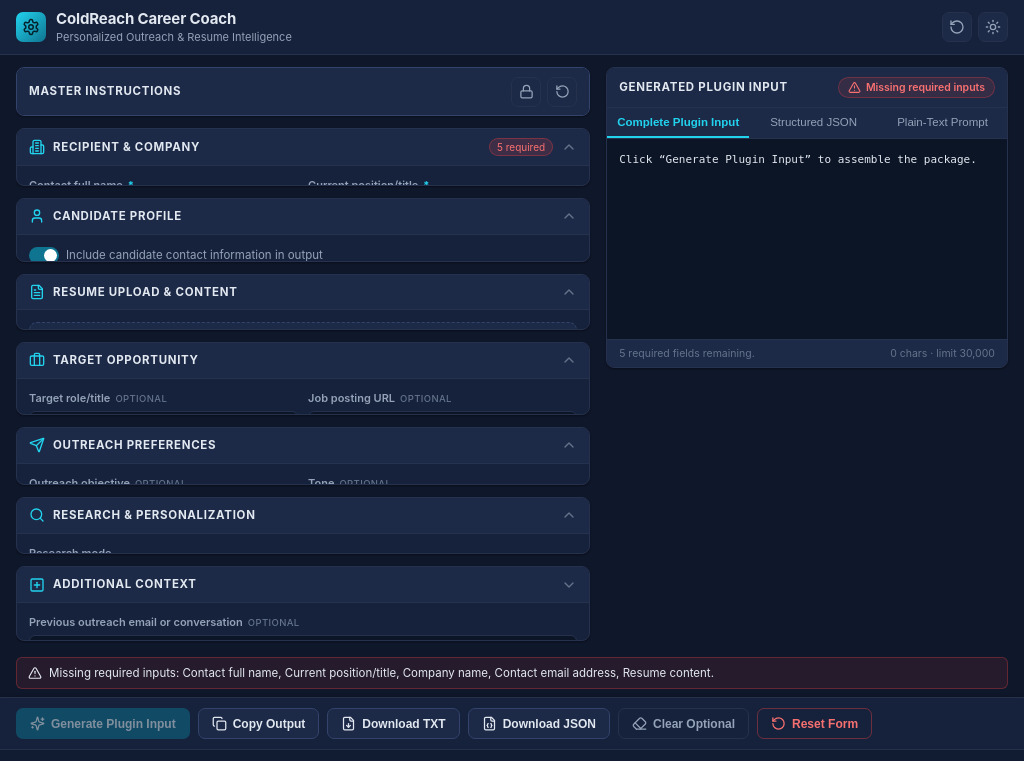
Test: Clipboard and downloads › shows an error toast when nothing has been generated yet
This screenshot has width=1024, height=761.
Click the button "Copy Output": (259, 724) [198,708,319,739]
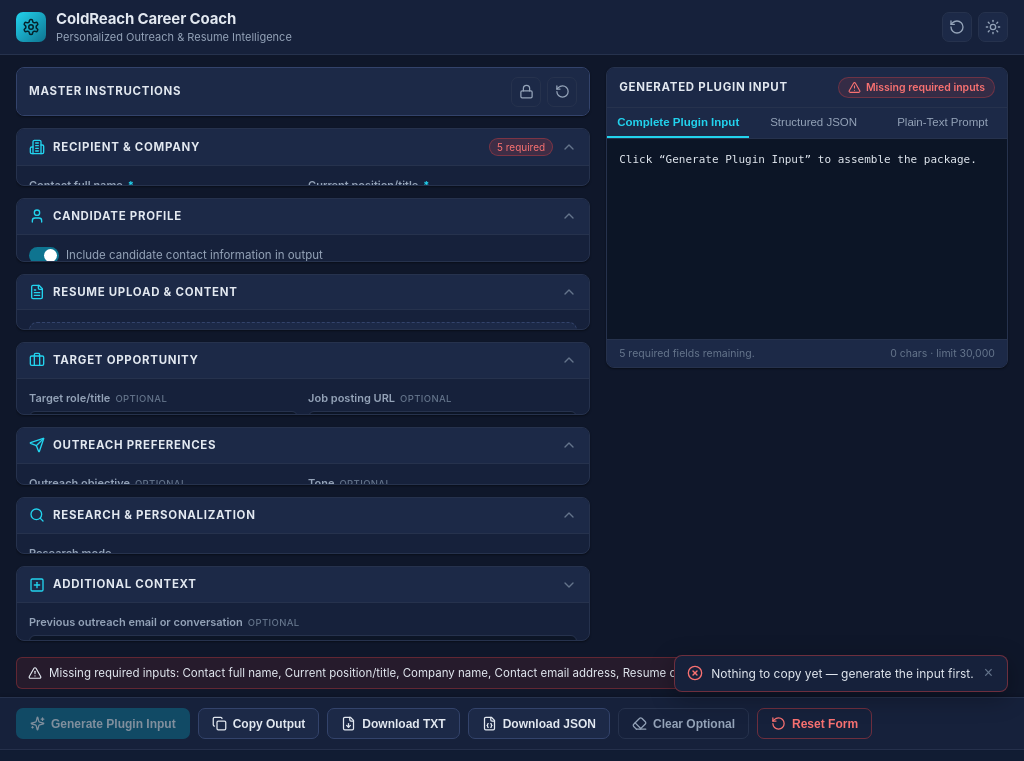
expect the text "Nothing to copy yet — generate the input first." is shown: met, box [711,665,974,682]
